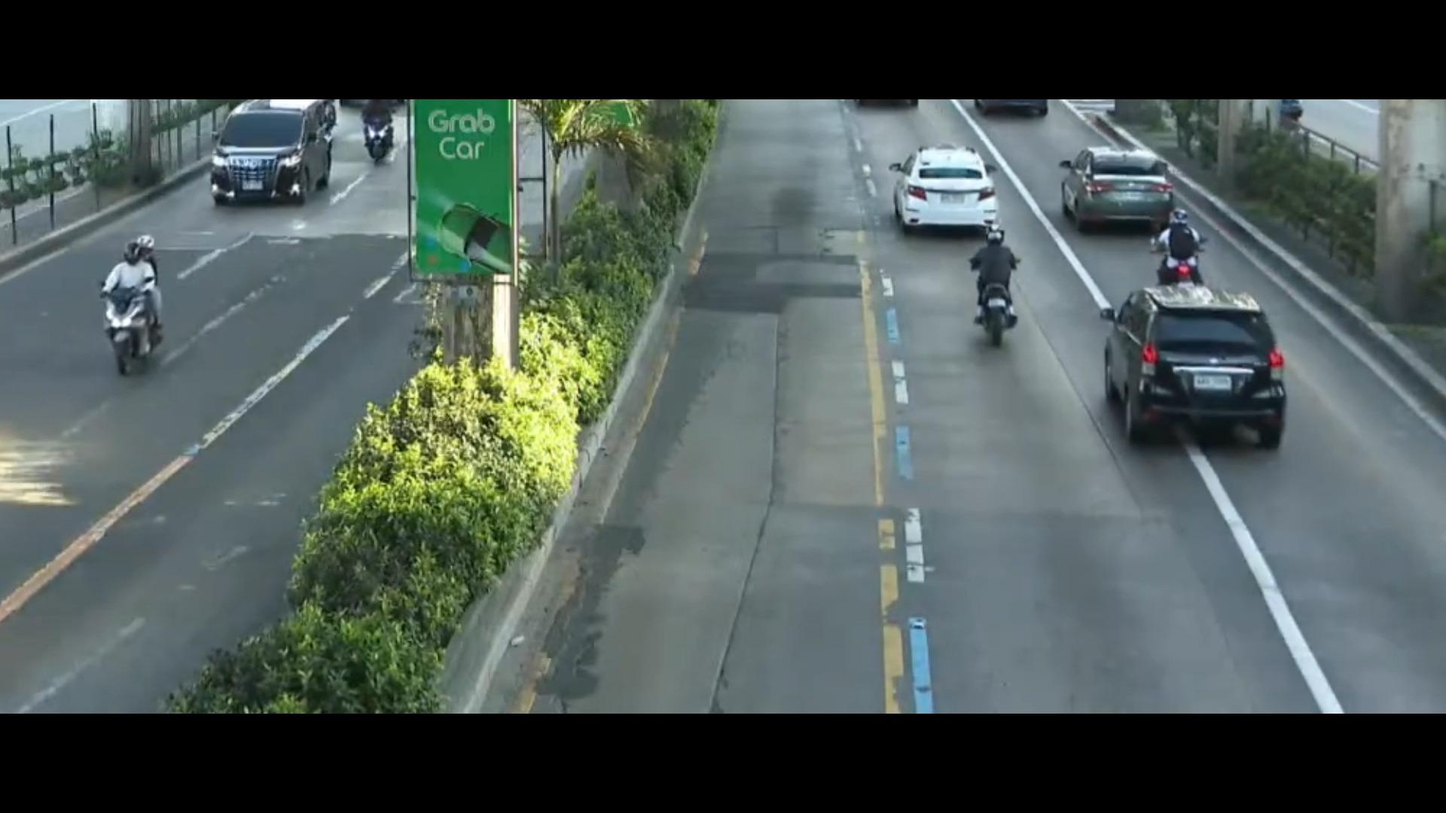Motorcycle: (67, 234, 194, 408), (955, 214, 1035, 358), (352, 107, 402, 184)
SUV: (1082, 269, 1334, 458), (1062, 128, 1190, 246)
Sedan: (897, 139, 1002, 244)
Van: (194, 103, 338, 211)
